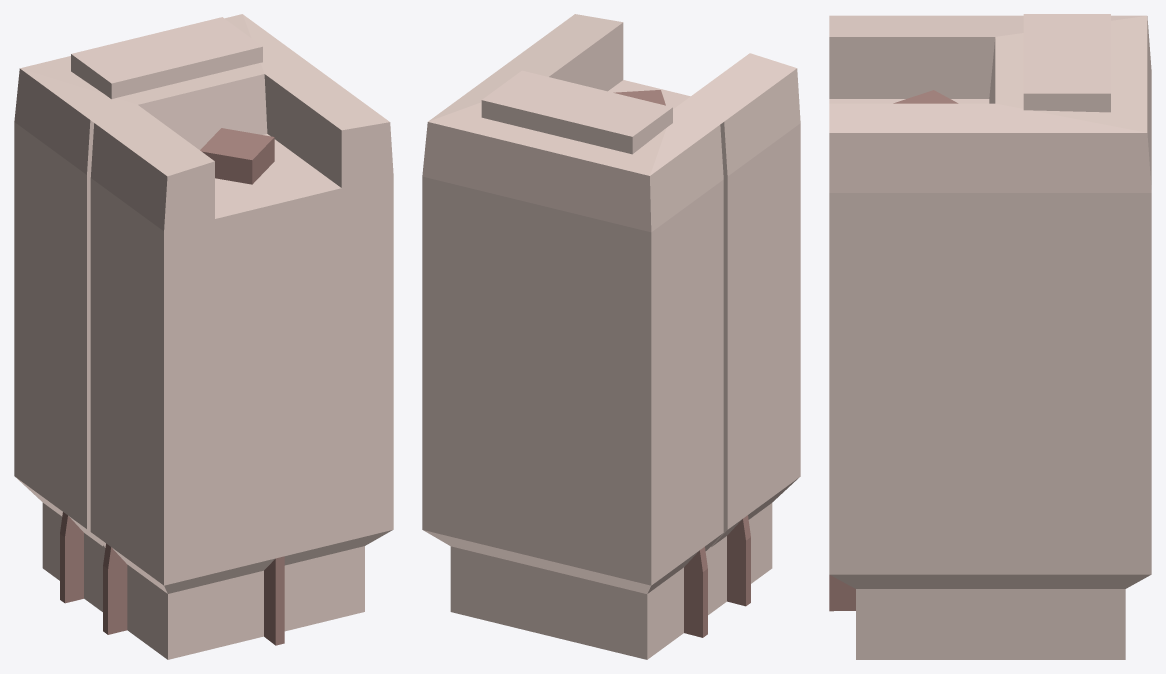
The model's file is Edificio026.FBX.
3 views of the same model, side by side, from view 1: azimuth 30°, elevation 25°; view 2: azimuth 150°, elevation 25°; view 3: azimuth 270°, elevation 25° (orthographic). The views are drawn at different scales.
Parts seen in each view (by area): view 1: Edificio009; view 2: Edificio009; view 3: Edificio009.
Boxes of the visible parts, x1,y1,x2,y2 form: Edificio009: (14,14,393,659); Edificio009: (422,14,800,659); Edificio009: (829,14,1151,659).
Bounding box in the file's own units: 652 × 1377 × 727.
